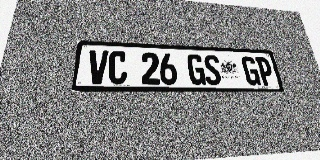2: (141, 52, 160, 85)
6: (159, 53, 178, 85)
C: (108, 51, 127, 84)
G: (187, 54, 206, 85), (241, 56, 261, 85)
P: (255, 57, 276, 86)
S: (203, 55, 222, 85)
V: (87, 50, 109, 84)
